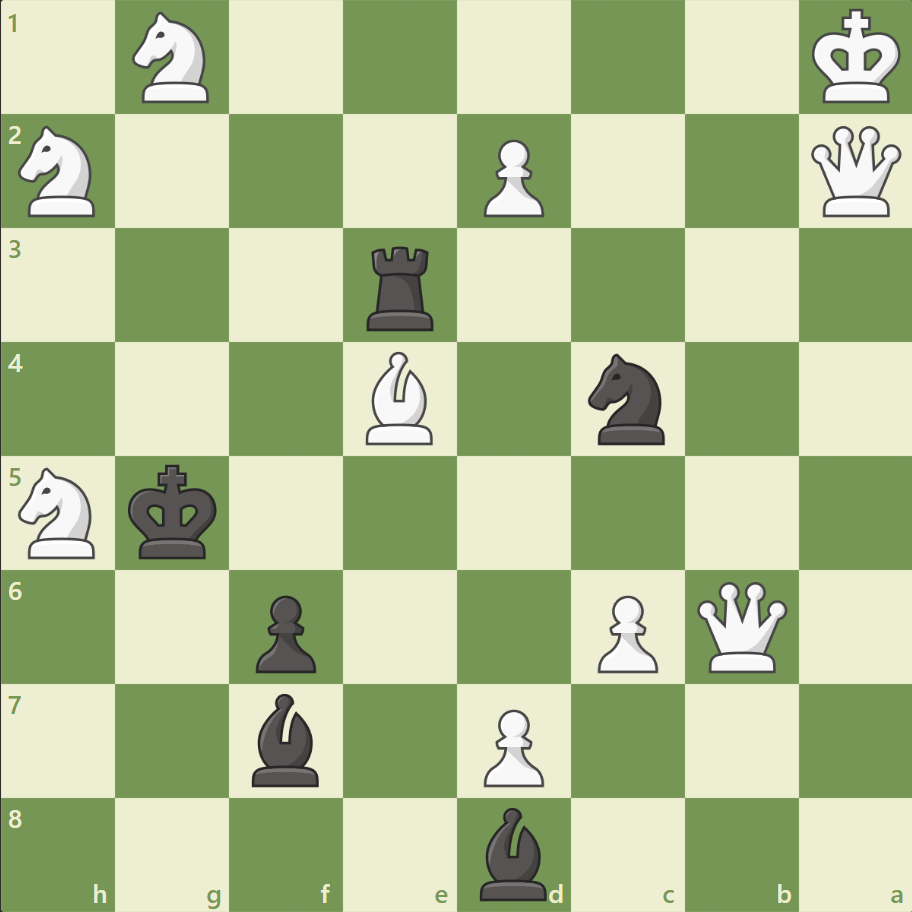B: (358, 347, 442, 449)
K: (806, 4, 906, 112)
N: (124, 7, 222, 110), (11, 461, 108, 564), (11, 121, 108, 223)
P: (474, 700, 549, 791), (474, 132, 549, 223), (588, 586, 662, 677)
Q: (691, 576, 790, 676), (805, 122, 904, 222)
b: (471, 801, 555, 904), (244, 687, 328, 790)
k: (124, 458, 224, 566)
n: (579, 348, 676, 450)
p: (247, 586, 322, 677)
r: (360, 239, 442, 336)
